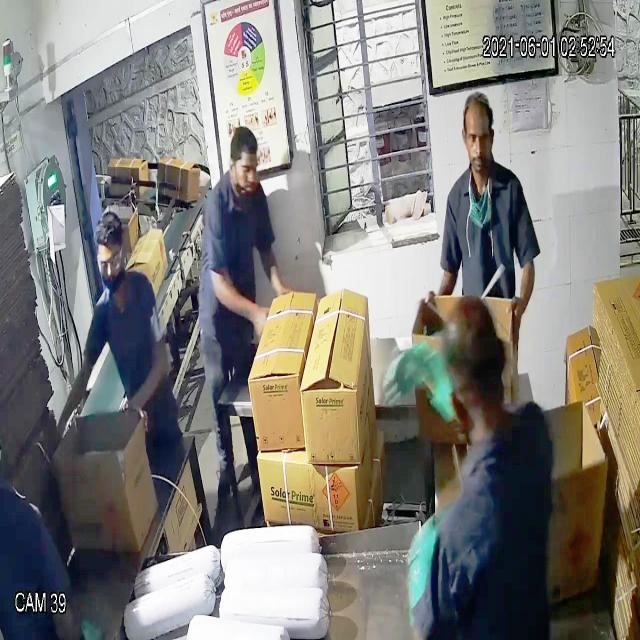glasses: (90, 242, 130, 282)
no-glass: (454, 121, 502, 157)
